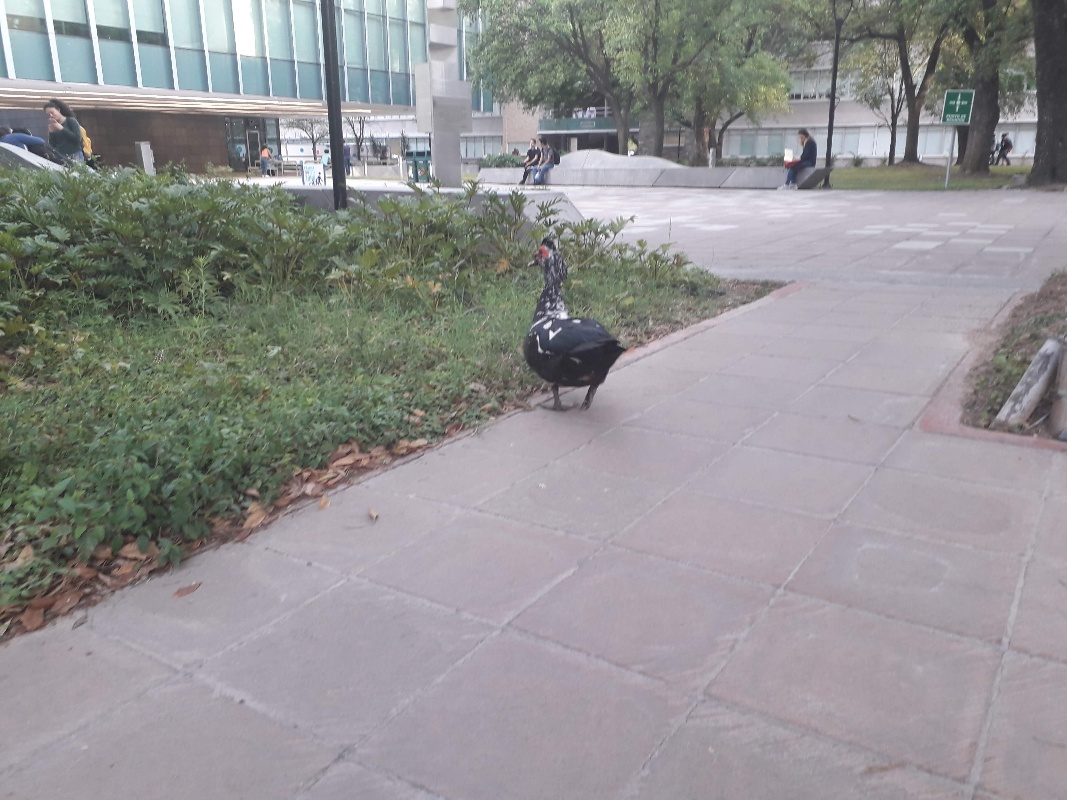pato: (529, 235, 614, 398)
